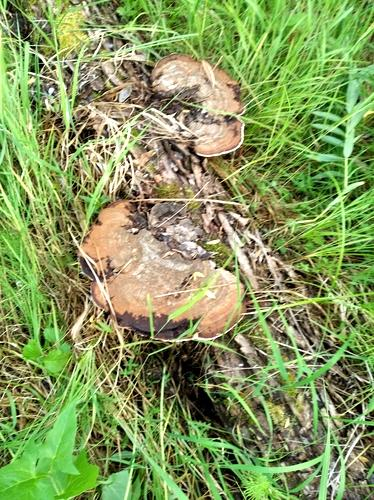Ganoderma - Fruit Body: (77, 198, 243, 342), (150, 52, 249, 155)
